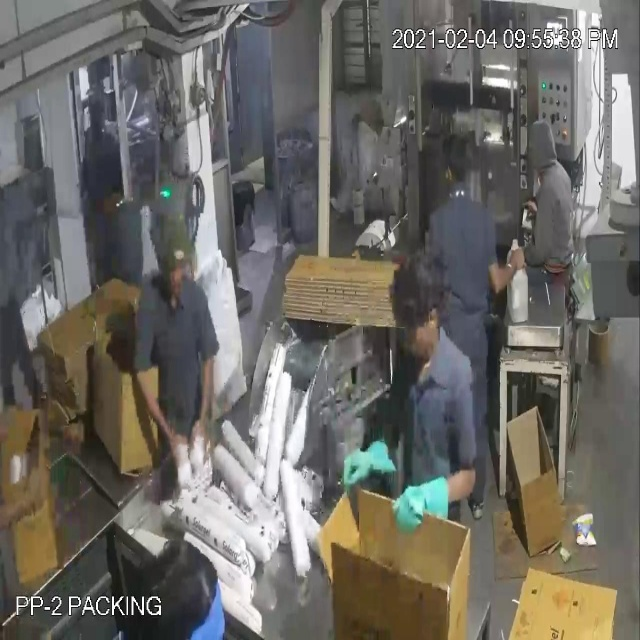Guantes: (392, 464, 462, 539), (334, 430, 397, 501)
Sin_guantes: (127, 355, 190, 482), (190, 337, 226, 485), (486, 243, 525, 300)
